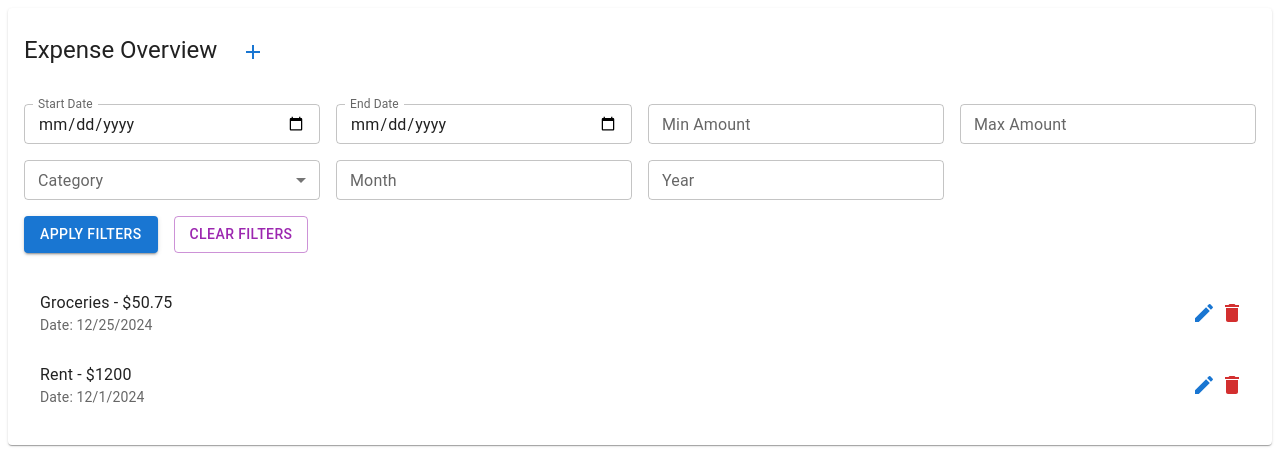
ExpenseOverview Component › handles the delete expense action
# Click the Delete button of the first expense
Click the button named "delete" in the row of "Groceries - $50.75".
click(1232, 312)  # box x1=1212 y1=292 x2=1252 y2=332
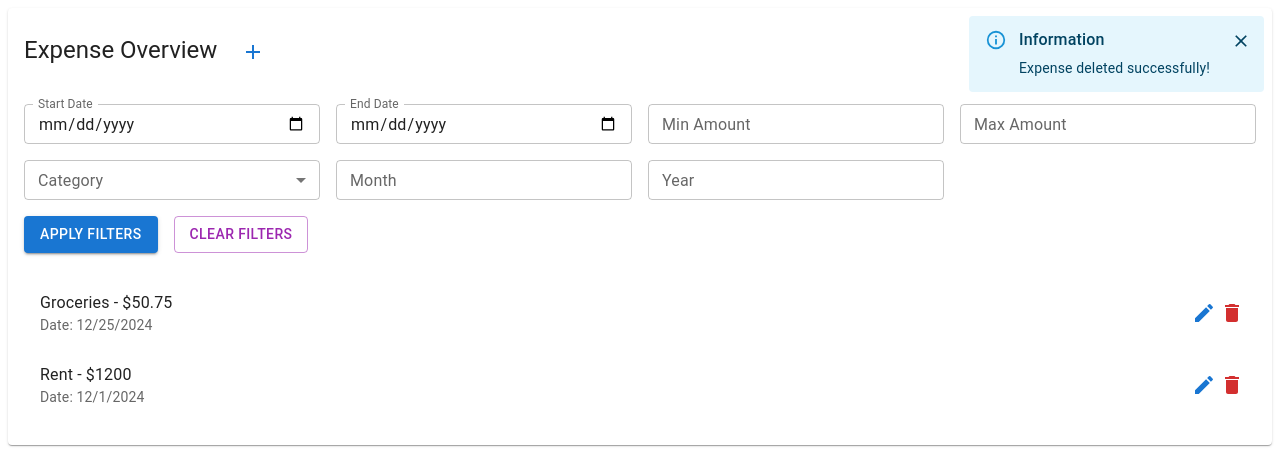
Check: the text "Expense deleted successfully!" is shown, box x1=1019 y1=60 x2=1210 y2=76
